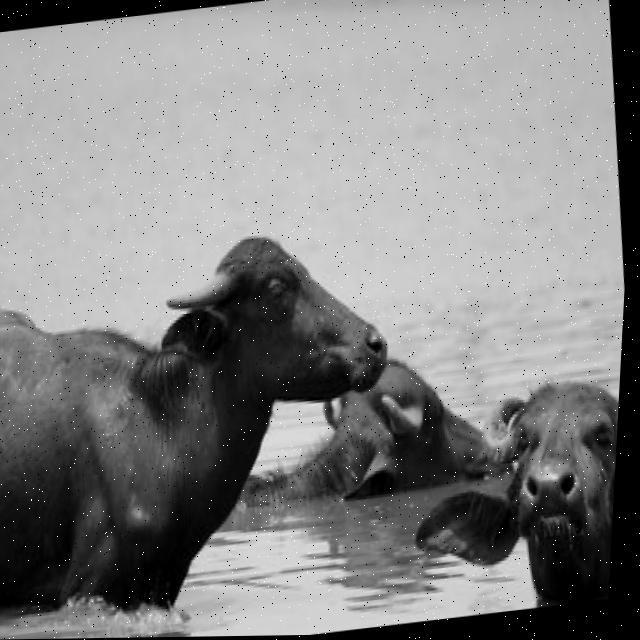Buffalo: (0, 220, 417, 629), (395, 365, 621, 622)
